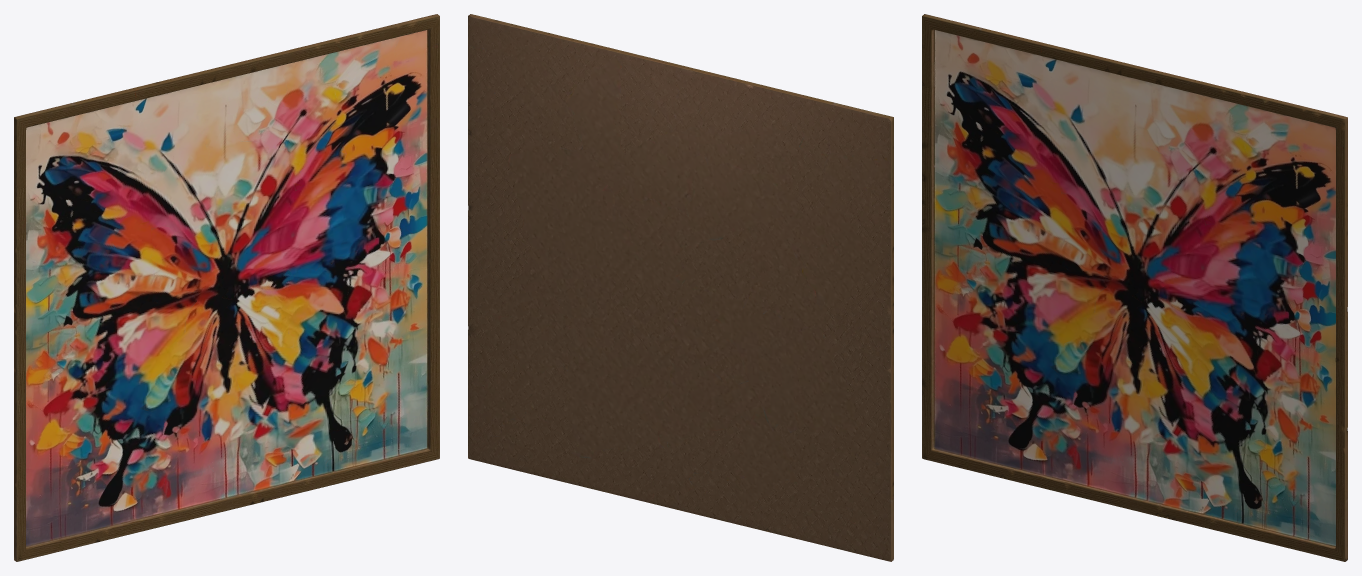
File: Meshy_AI_Kaleidoscope_Wings_0920125113_texture.glb
The picture shows the model from 3 angles, left to right: view 1: azimuth 30°, elevation 25°; view 2: azimuth 150°, elevation 25°; view 3: azimuth 330°, elevation 25°; orthographic projection.
Size of the model in its own units: 1.9 by 1.9 by 0.022.
1 material, 1 textured.
